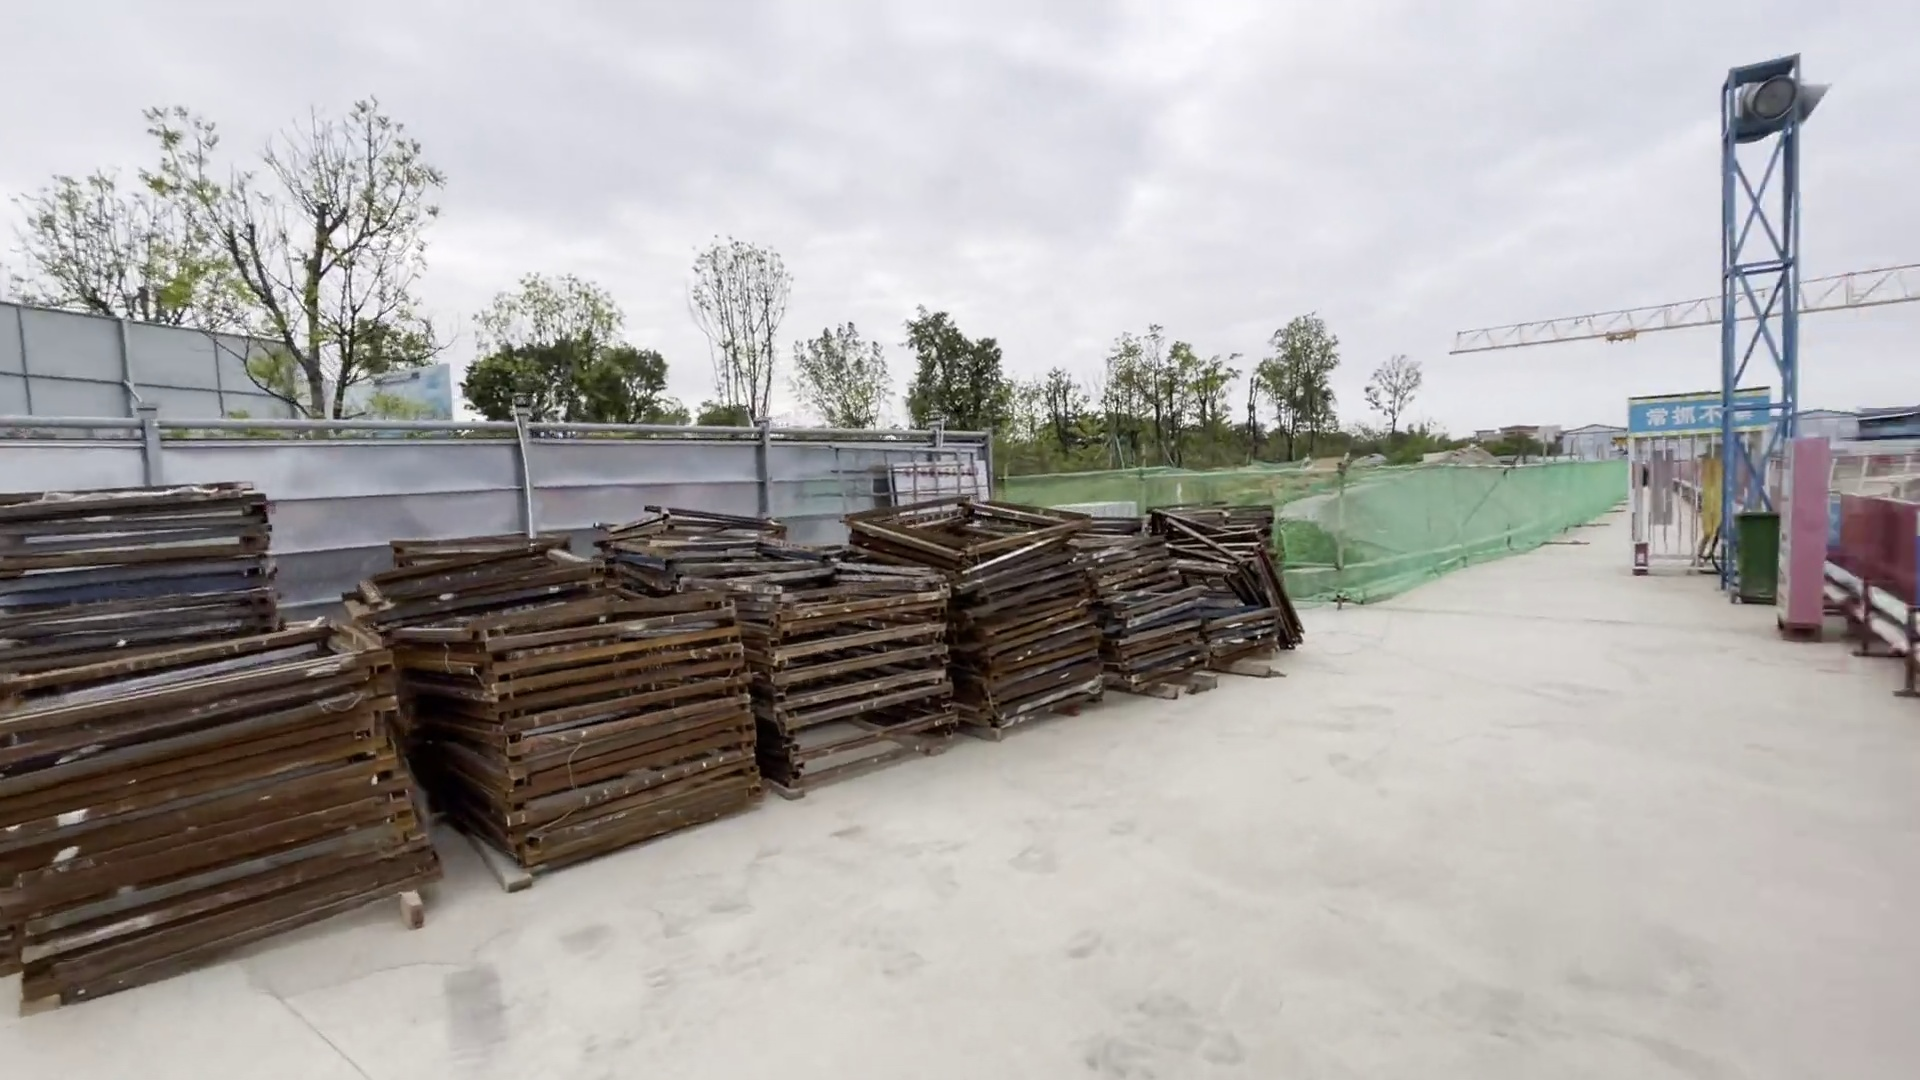ebox: (1691, 440, 1747, 578)
slogan: (1626, 386, 1772, 442)
